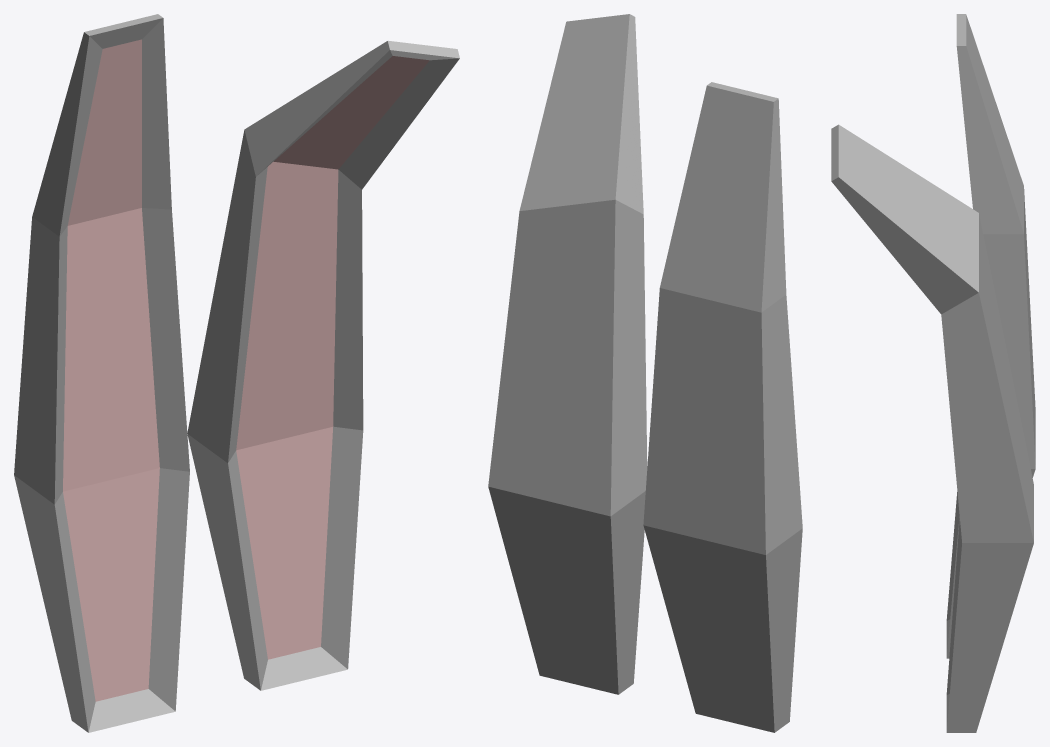
Rendered from rabbit.glb.
The picture shows the model from 3 angles, left to right: view 1: azimuth 30°, elevation 25°; view 2: azimuth 150°, elevation 25°; view 3: azimuth 270°, elevation 25°; orthographic projection. The views are drawn at different scales.
Visible parts, largest first — view 1: Box001, Box002; view 2: Box002, Box001; view 3: Box002, Box001.
Part boxes in pixels (x1,y1,x2,y2): Box001: (14,14,189,732); Box002: (187,40,459,690); Box002: (488,14,647,694); Box001: (643,82,802,732); Box002: (831,124,1033,732); Box001: (946,14,1035,658).
Bounding box in the file's own units: 0.5622 × 1.12 × 0.3395.
